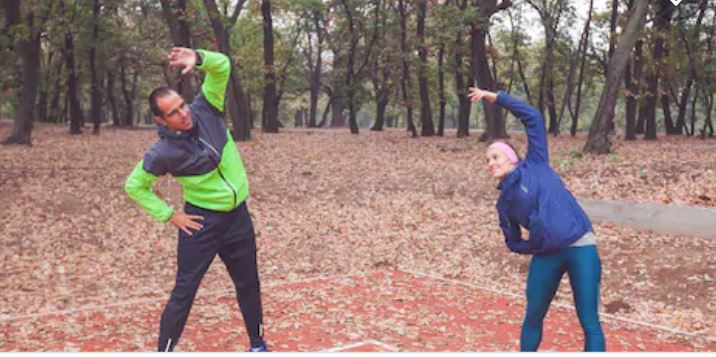Good: (121, 42, 605, 355)
